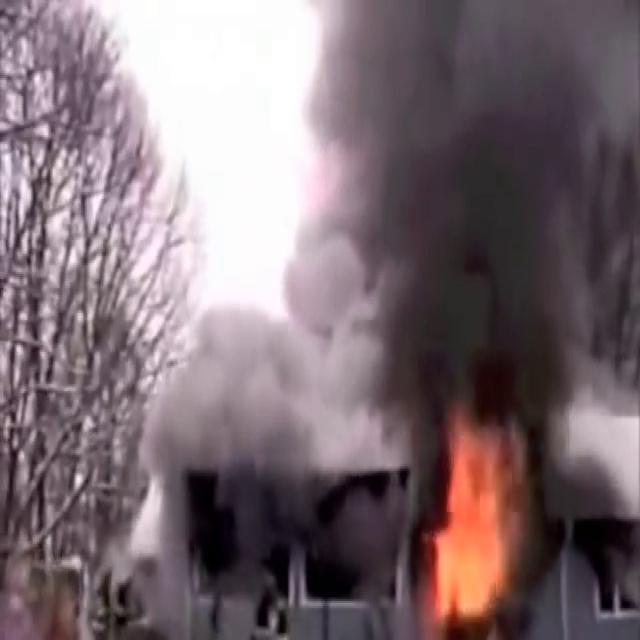Fire: (286, 23, 640, 398), (422, 412, 532, 620)
Smoke: (142, 169, 432, 505)
